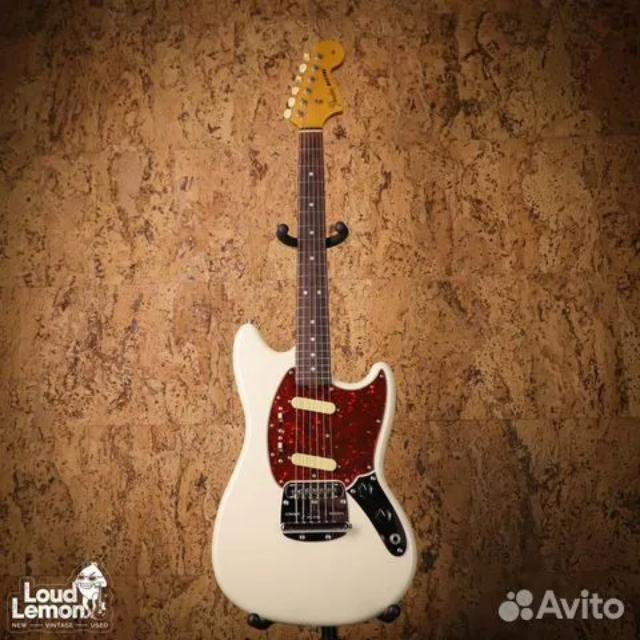Electric-Guitar: (214, 42, 416, 624)
